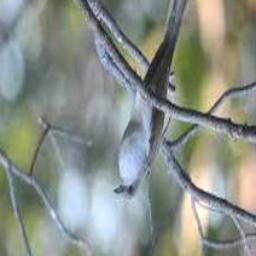Cuckoo: (112, 0, 196, 201)
